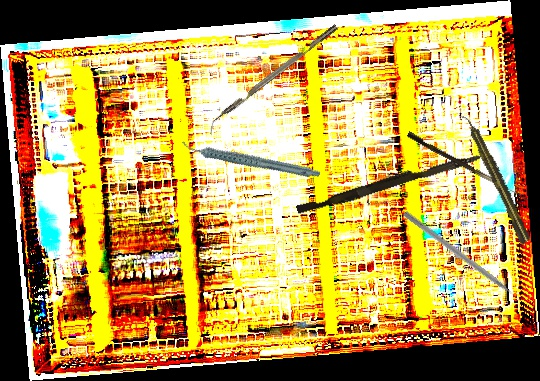Chopper: (202, 24, 344, 135)
Handpiece: (180, 112, 322, 205), (460, 110, 533, 247)
Hook Surgical: (405, 131, 532, 201)
Pusher: (295, 144, 488, 220), (401, 210, 528, 308)
